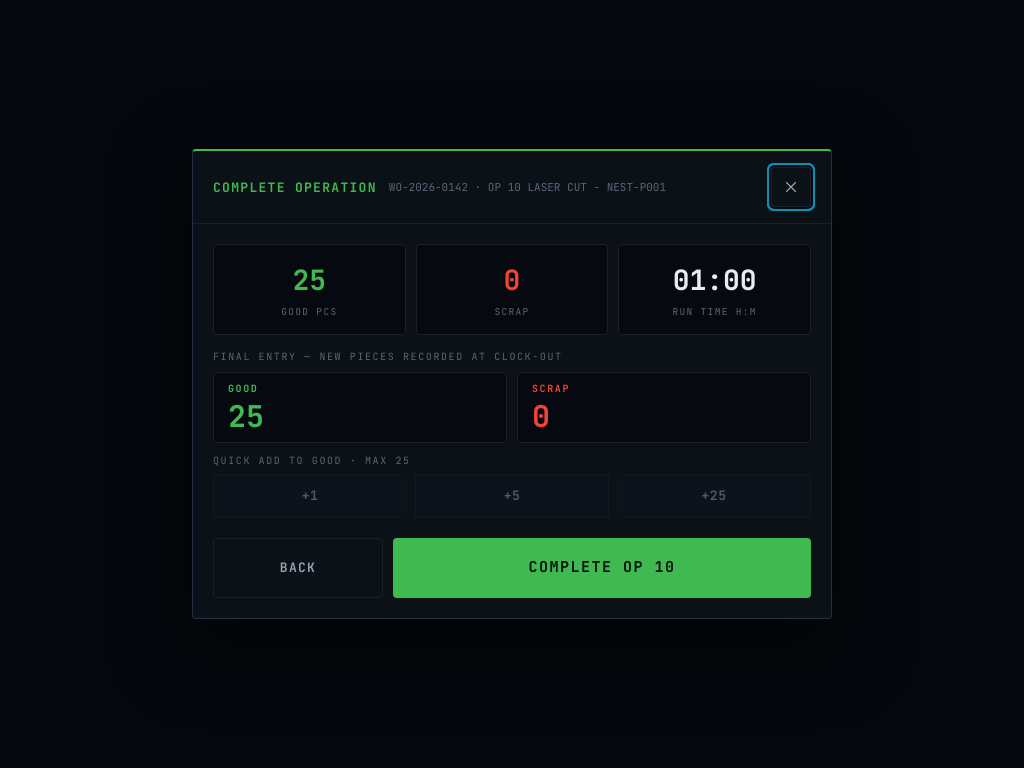
Test: KioskCompleteModal — quantity quick adds › adds to good, and never to scrap
Click the button with test id "kiosk-qty-good". click: [243, 388]
box: [213,372,507,443]
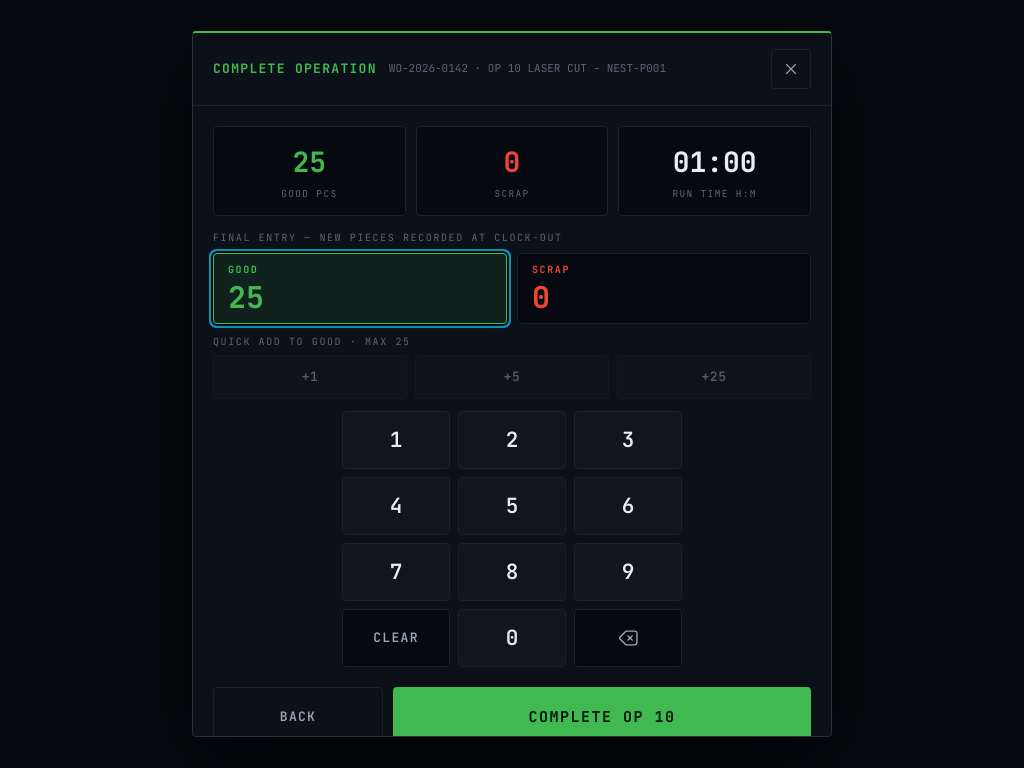
Click the button "Clear". click: [396, 638]
box: [342,609,450,667]
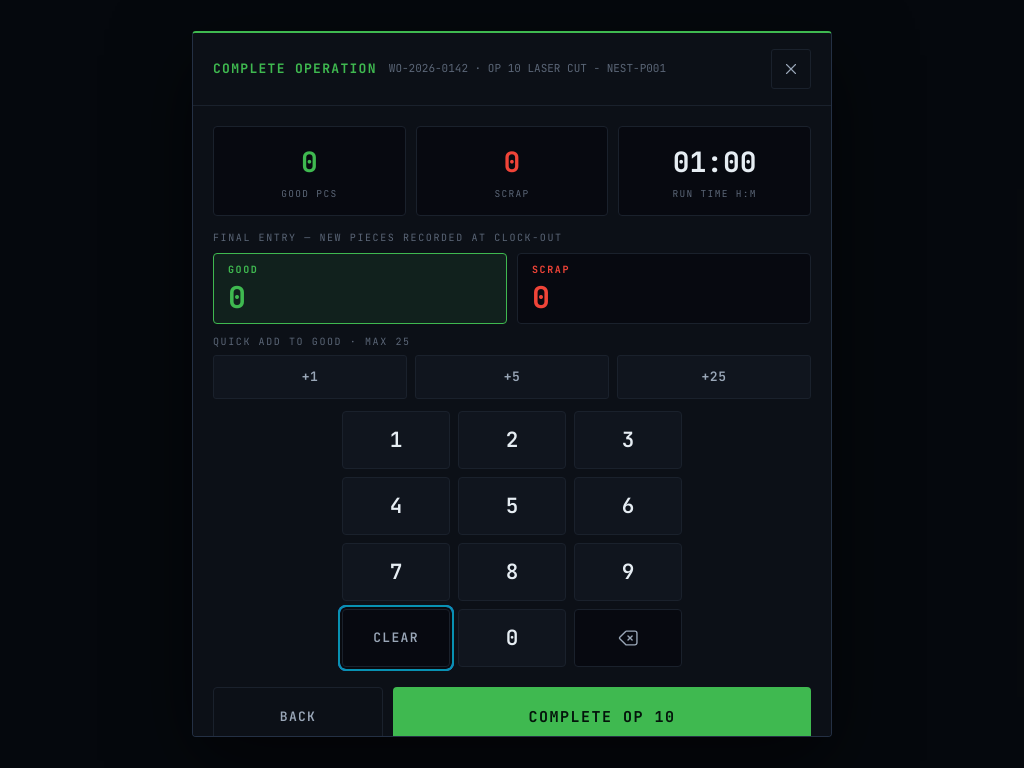
Click the button "+5". click: [512, 377]
box: [415,355,609,399]
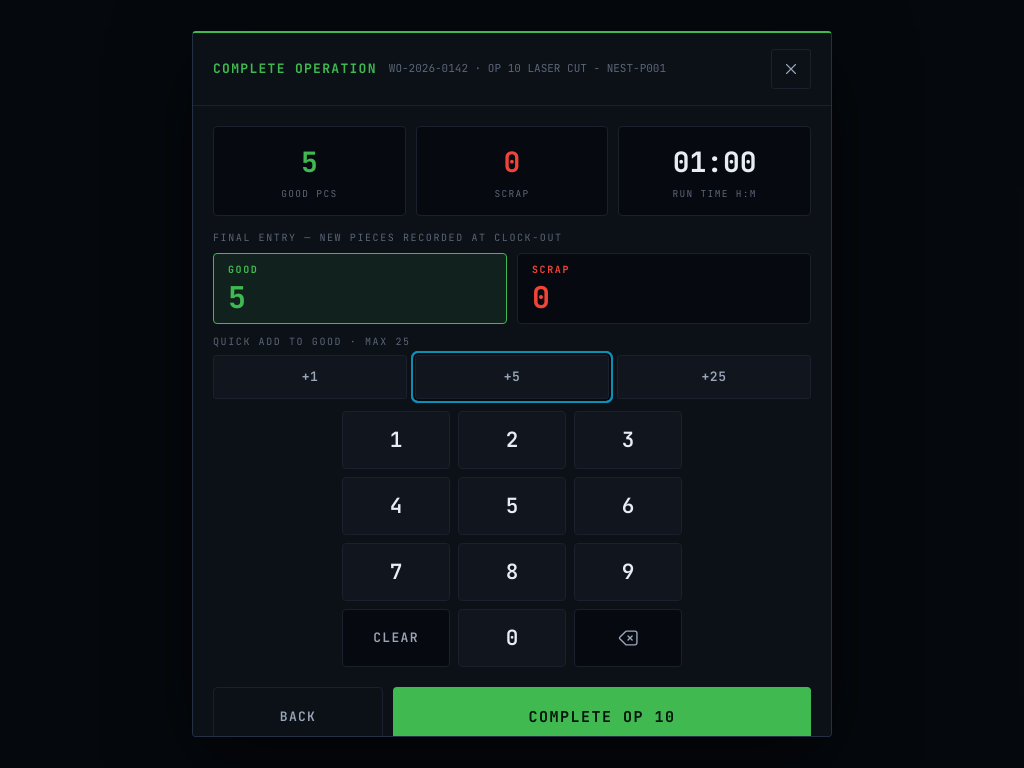
Click the button "+1". click: [310, 377]
box: [213,355,407,399]
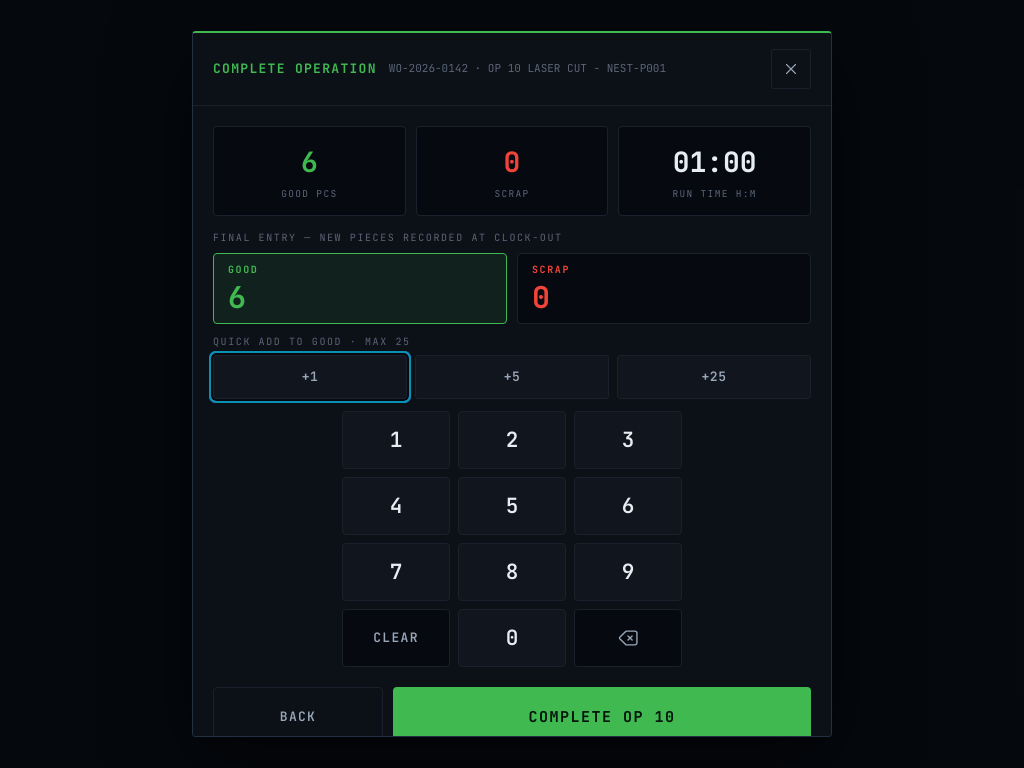
Expected: the 2nd text "0" is shown, [532,277,550,317]
Expected: the 2nd text "6" is shown, [228,277,246,317]
